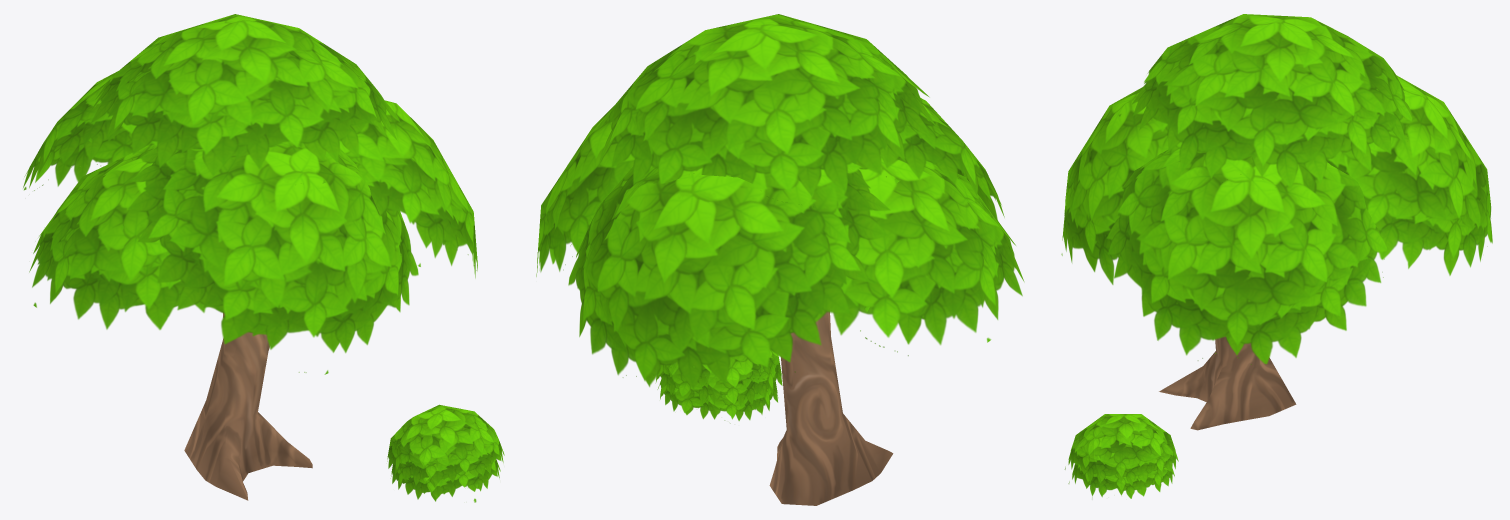
Rendered from low_poly_tree_for_game_asset.glb.
3 views of the same model, side by side, from view 1: azimuth 30°, elevation 25°; view 2: azimuth 150°, elevation 25°; view 3: azimuth 270°, elevation 25° (orthographic). The views are drawn at different scales.
Parts seen in each view (by area): view 1: tree, bush; view 2: tree, bush; view 3: tree, bush.
Part boxes in pixels (box(x1,y1,x2,y2)): tree: box(23, 14, 477, 500); bush: box(387, 404, 504, 502); tree: box(536, 14, 1024, 505); bush: box(655, 349, 782, 423); tree: box(1061, 14, 1492, 430); bush: box(1064, 414, 1178, 498).
Bounding box in the file's own units: 11.19 × 11.42 × 11.12.
1 material, 1 textured.
